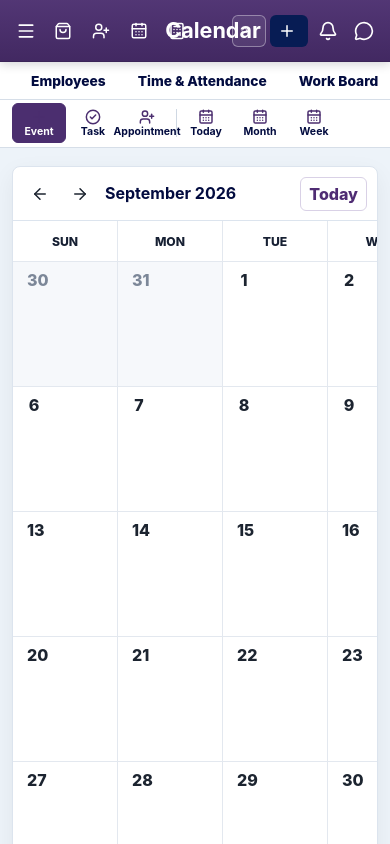
Test: Version 2 Stage 1-8 navigation boundary › applies capability filtering inside the mobile navigation drawer
What coordinates should you click on to do the following:
click the button named "Open navigation menu"
I would click on:
 (26, 30)
Its box is 10,14 -> 42,46.
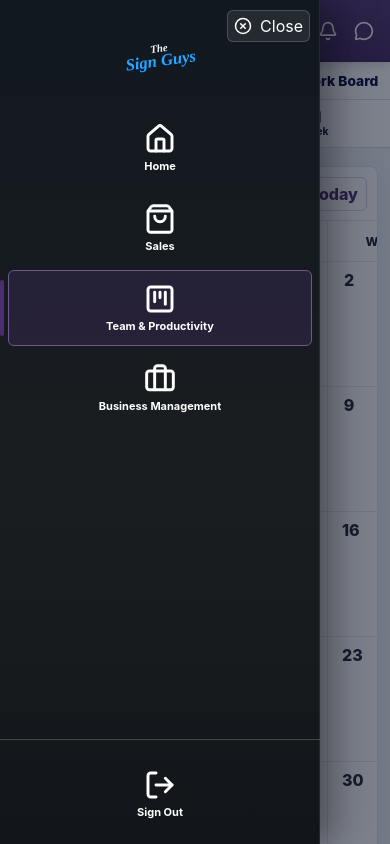
Expected: the link "Team & Productivity" is shown, 8,270 -> 312,346
